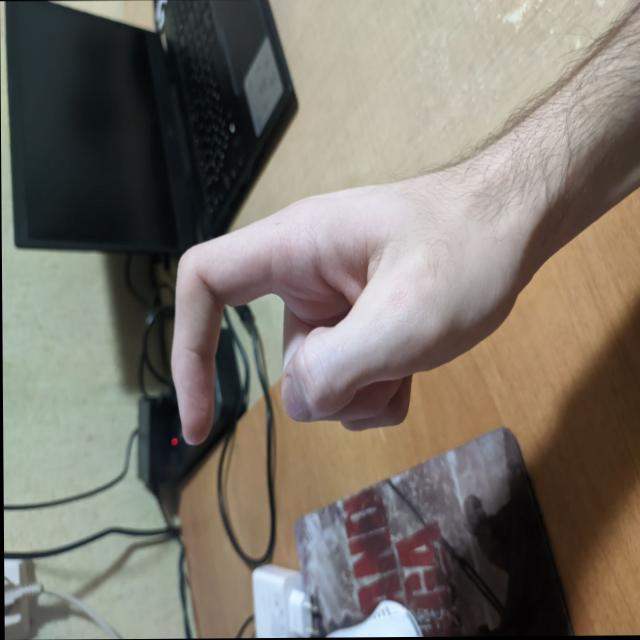kh: (141, 138, 503, 477)
